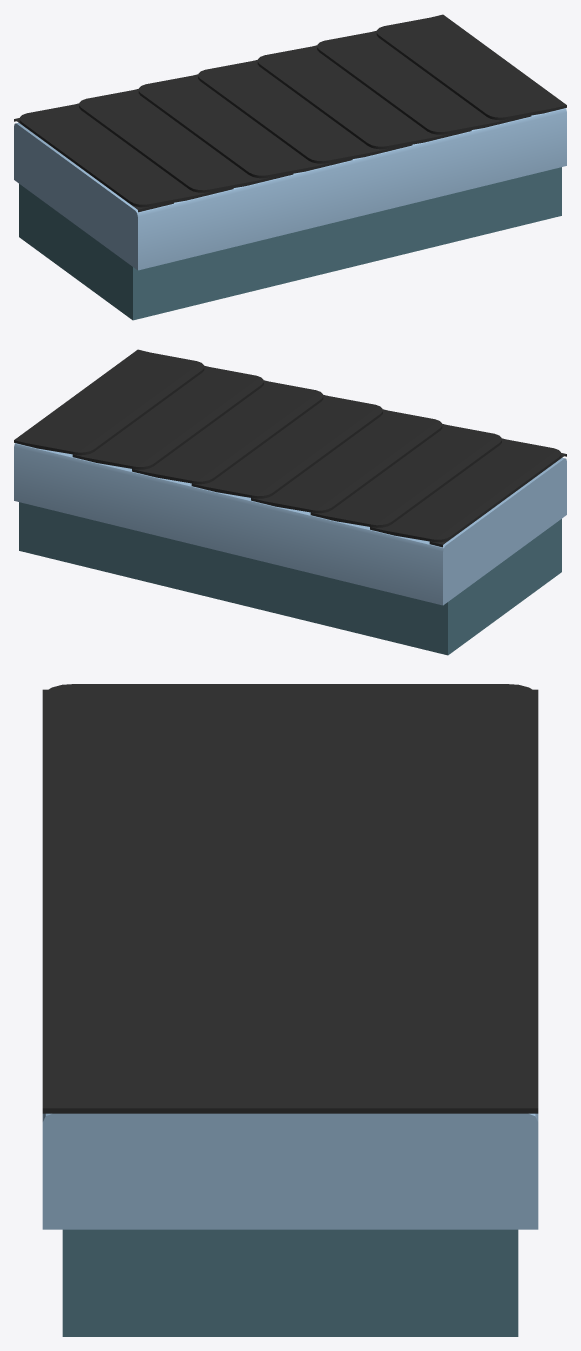
The model's file is 12_2_BaggageClaimBand_AIRPORT_0.obj.
3 views of the same model, one above another, from view 1: azimuth 30°, elevation 25°; view 2: azimuth 150°, elevation 25°; view 3: azimuth 270°, elevation 25° (orthographic). The views are drawn at different scales.
Visible parts, largest first — view 1: 12.2.BaggageClaimBand_AIRPORT_0; view 2: 12.2.BaggageClaimBand_AIRPORT_0; view 3: 12.2.BaggageClaimBand_AIRPORT_0.
Boxes of the visible parts, x1=… form: 12.2.BaggageClaimBand_AIRPORT_0: x1=14, y1=14, x2=566, y2=320; 12.2.BaggageClaimBand_AIRPORT_0: x1=14, y1=349, x2=566, y2=655; 12.2.BaggageClaimBand_AIRPORT_0: x1=42, y1=684, x2=538, y2=1336.
Size of the model in its own units: 3.5 by 0.9123 by 1.75.
1 material, 1 textured.
